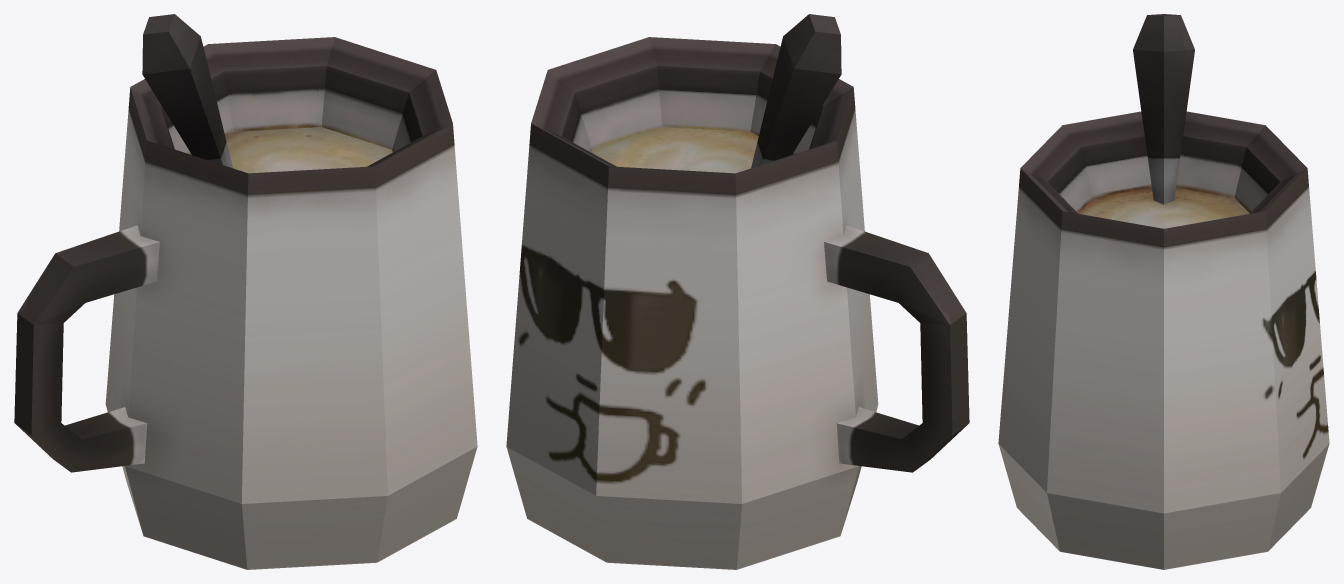
File: P_Cup_005_S1_M01.obj
3 views of the same model, side by side, from view 1: azimuth 30°, elevation 25°; view 2: azimuth 150°, elevation 25°; view 3: azimuth 270°, elevation 25° (orthographic). The views are drawn at different scales.
Size of the model in its own units: 0.2478 by 0.2799 by 0.1898.
1 material, 1 textured.
